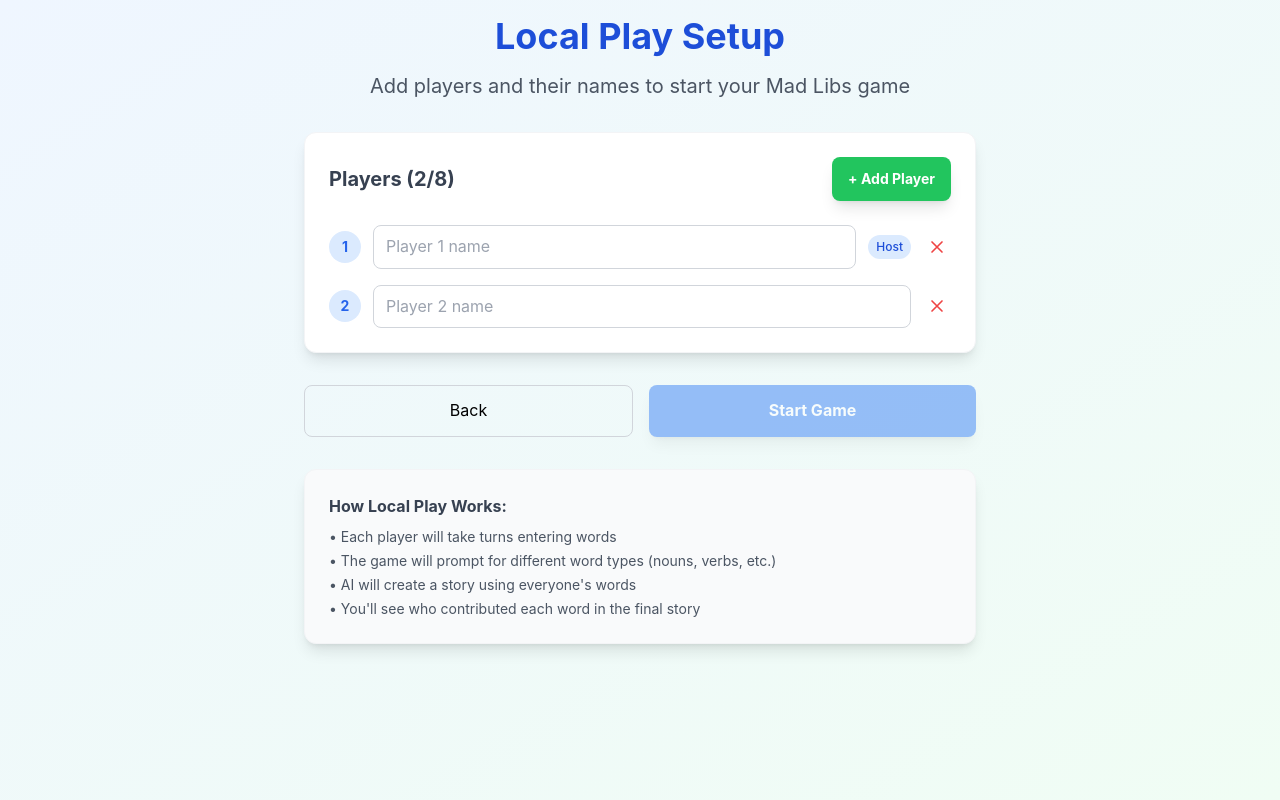
Test: LocalPlaySetup › limits players to maximum of 8
This screenshot has width=1280, height=800.
Click the button "+ Add Player" at (892, 179), box [832,157,951,201]
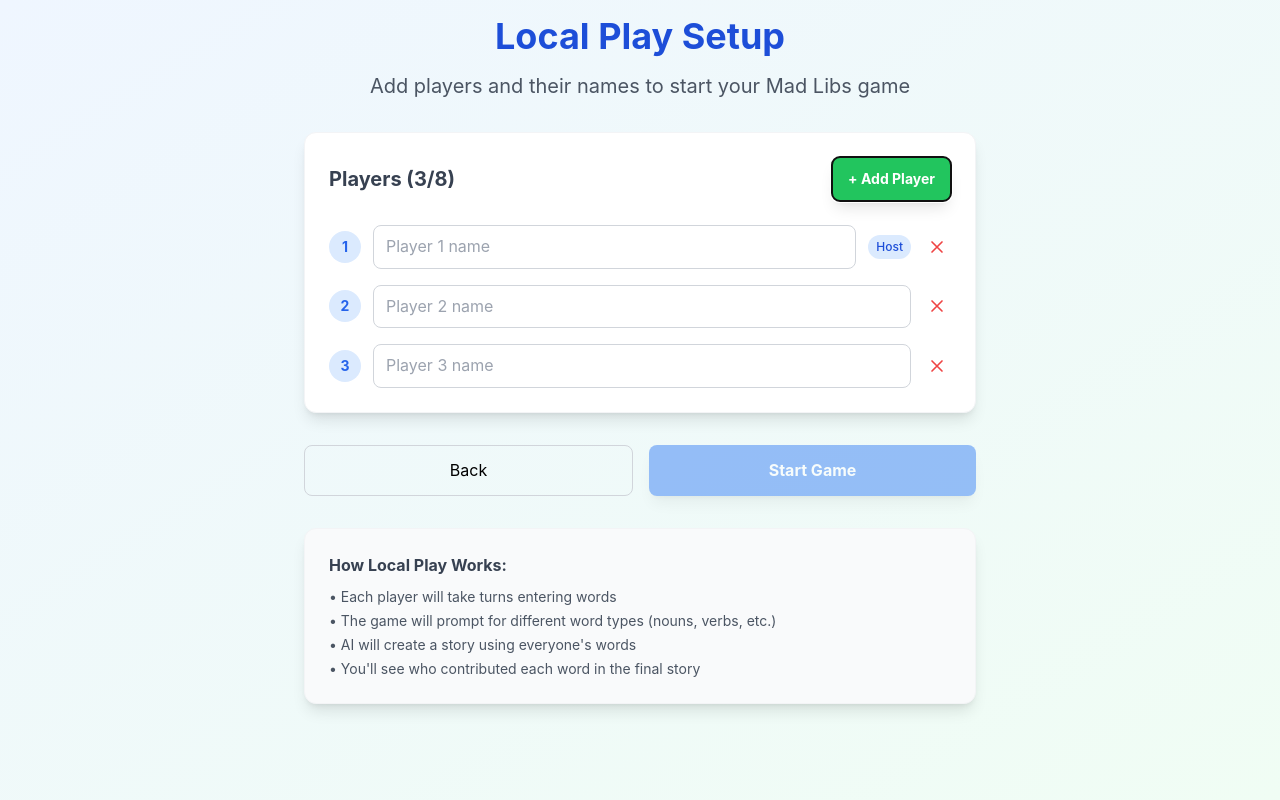
Result: the heading "Players (3/8)" is shown at [329,165,455,193]
Click the button "+ Add Player" at (892, 179), box [832,157,951,201]
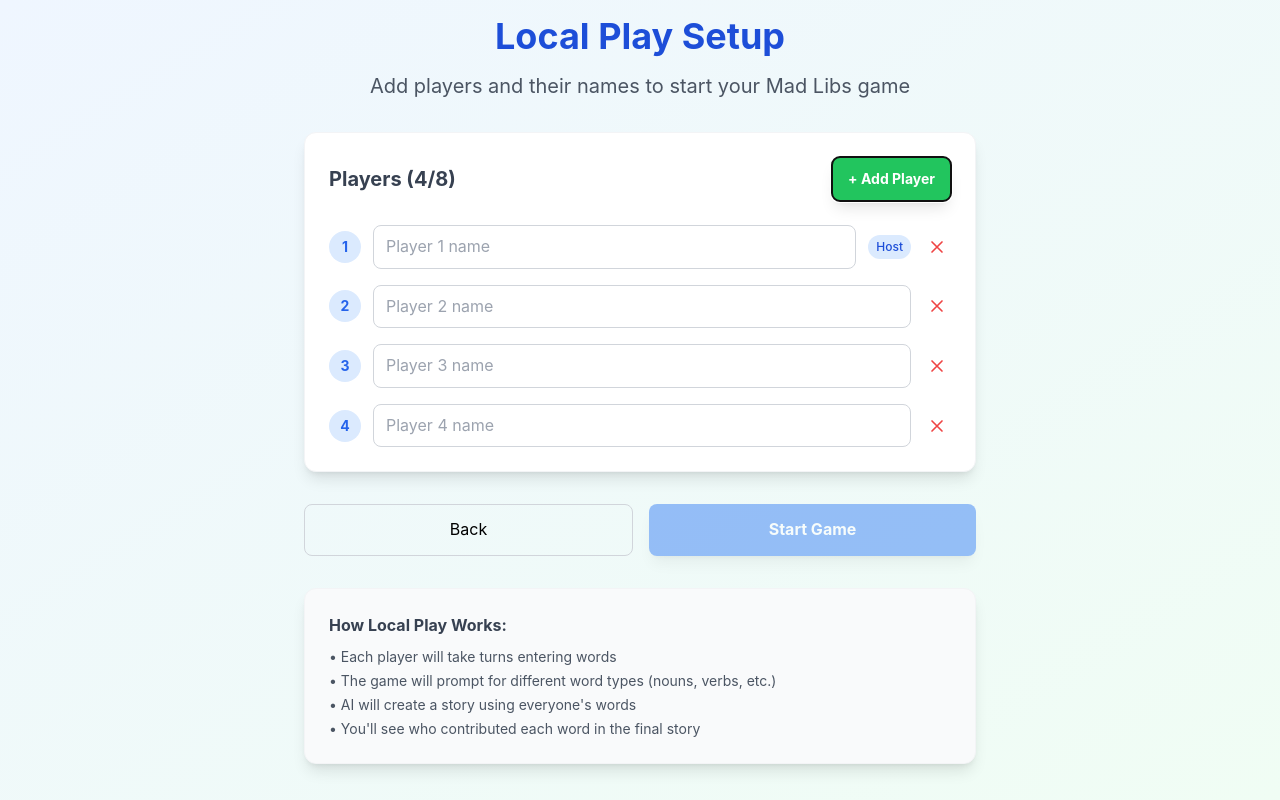
Click the button "+ Add Player" at (892, 179), box [832,157,951,201]
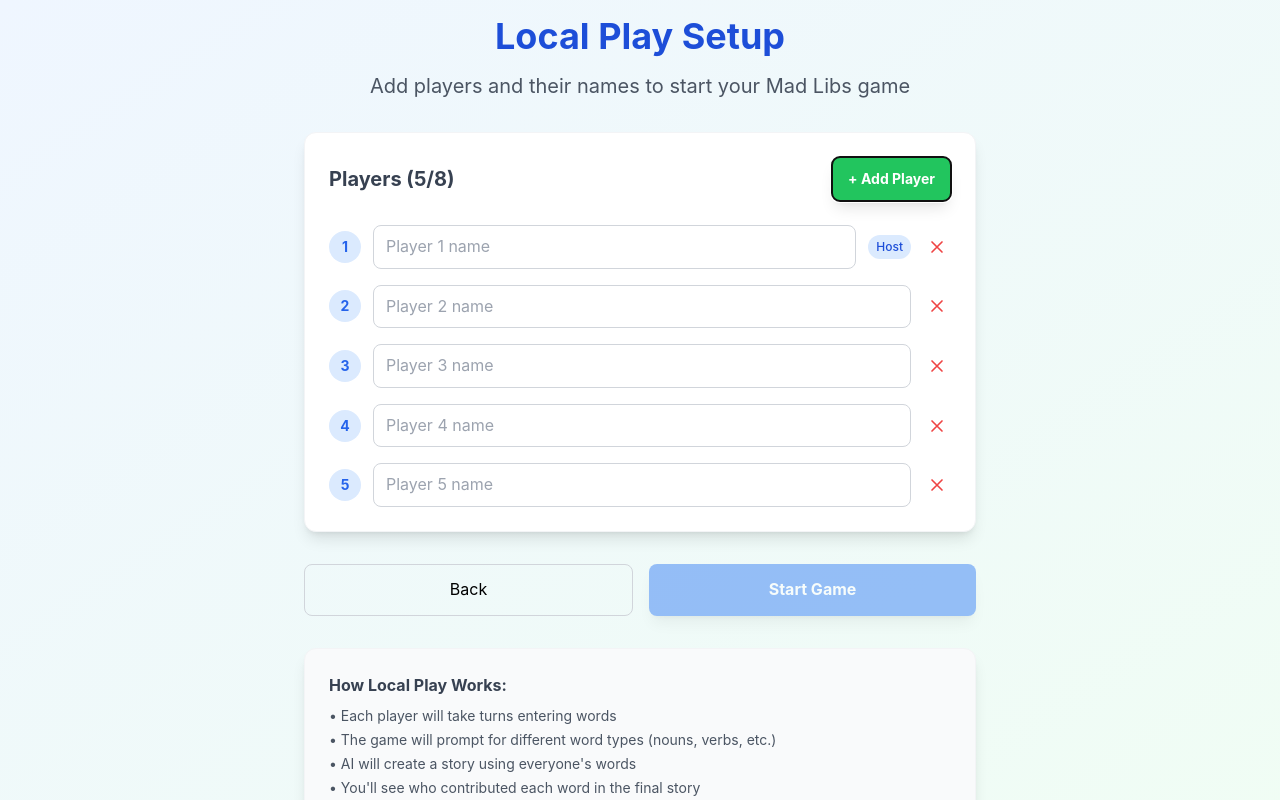
Click the button "+ Add Player" at (892, 179), box [832,157,951,201]
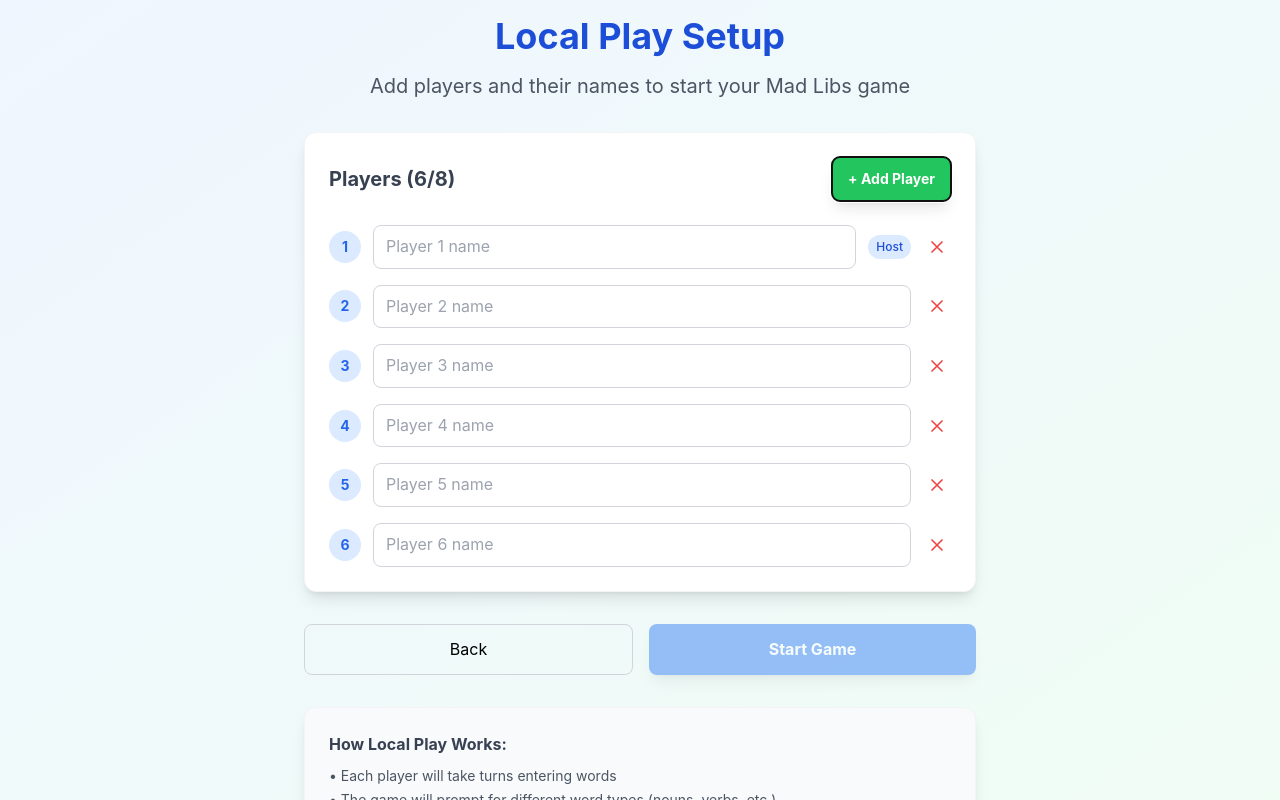
Click the button "+ Add Player" at (892, 179), box [832,157,951,201]
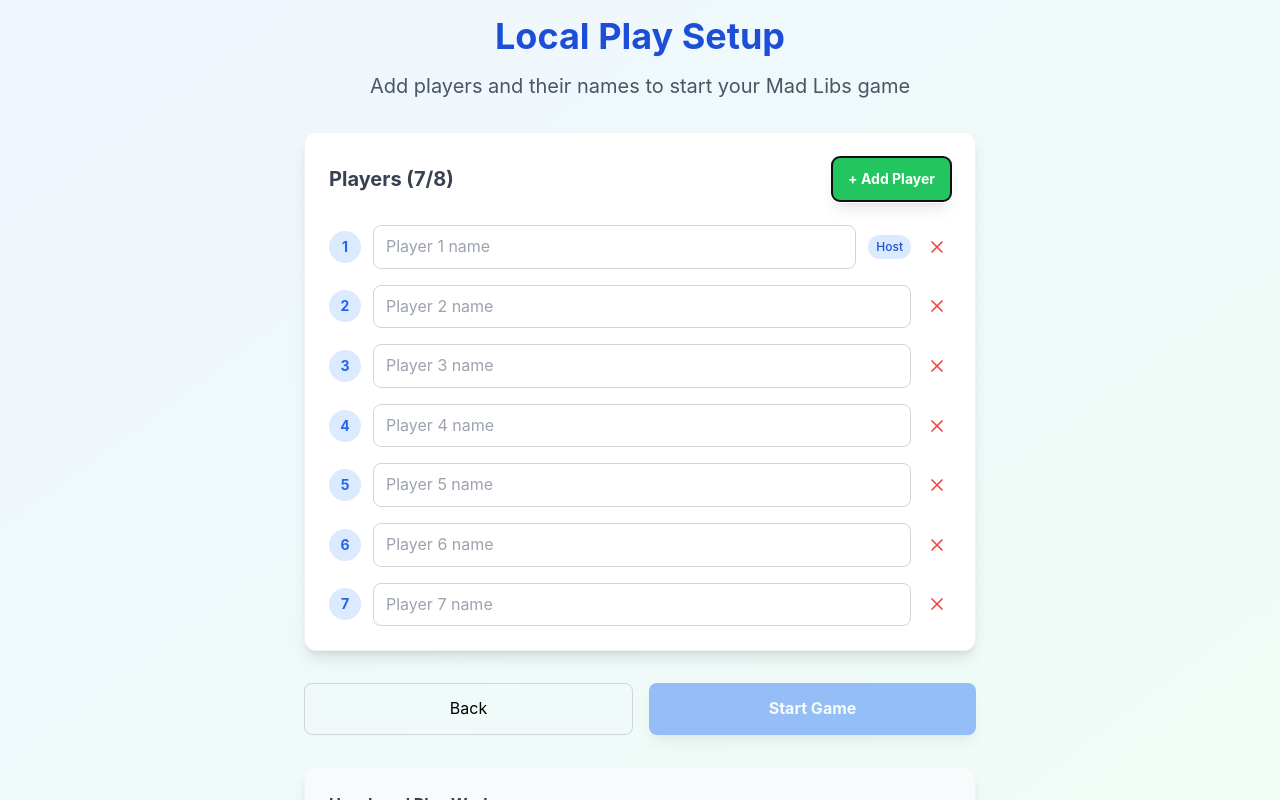
Click the button "+ Add Player" at (892, 179), box [832,157,951,201]
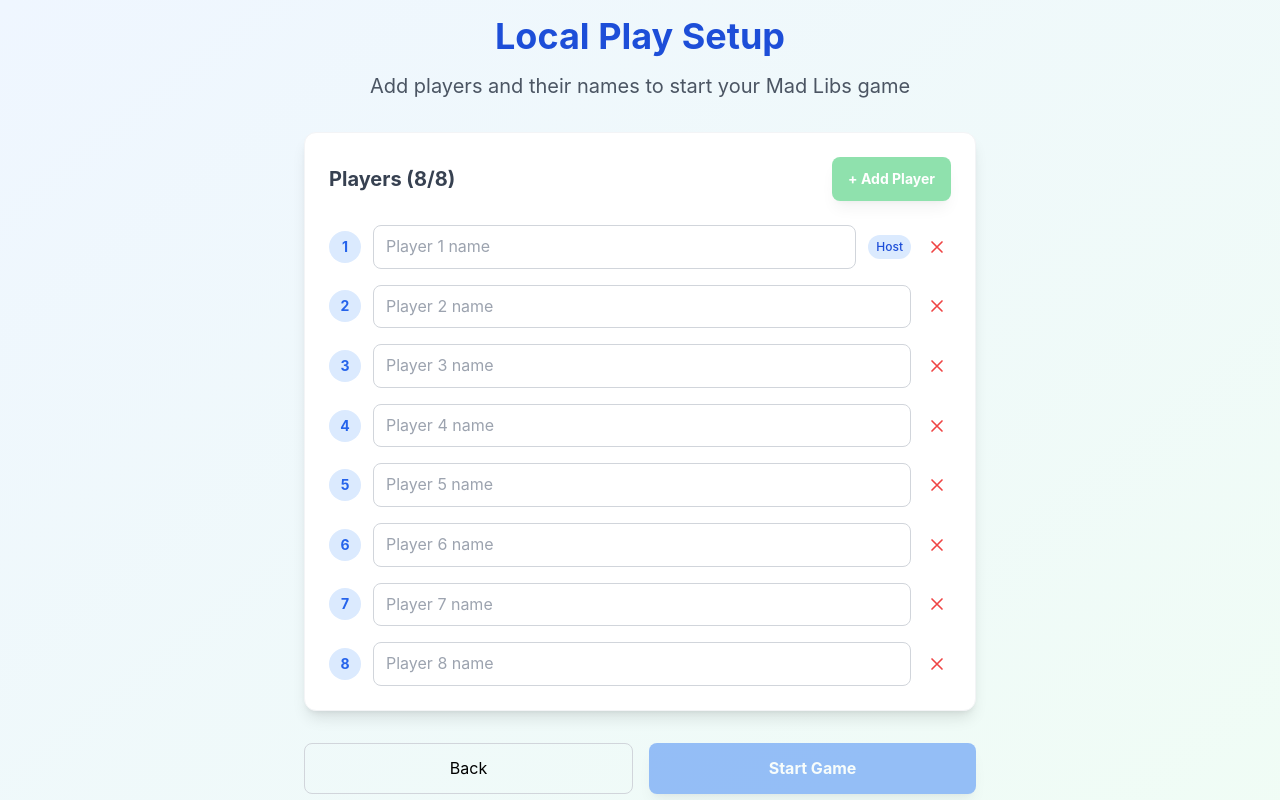
Result: the heading "Players (8/8)" is shown at [329,165,455,193]
Result: the button "+ Add Player" is disabled at [832,157,951,201]
